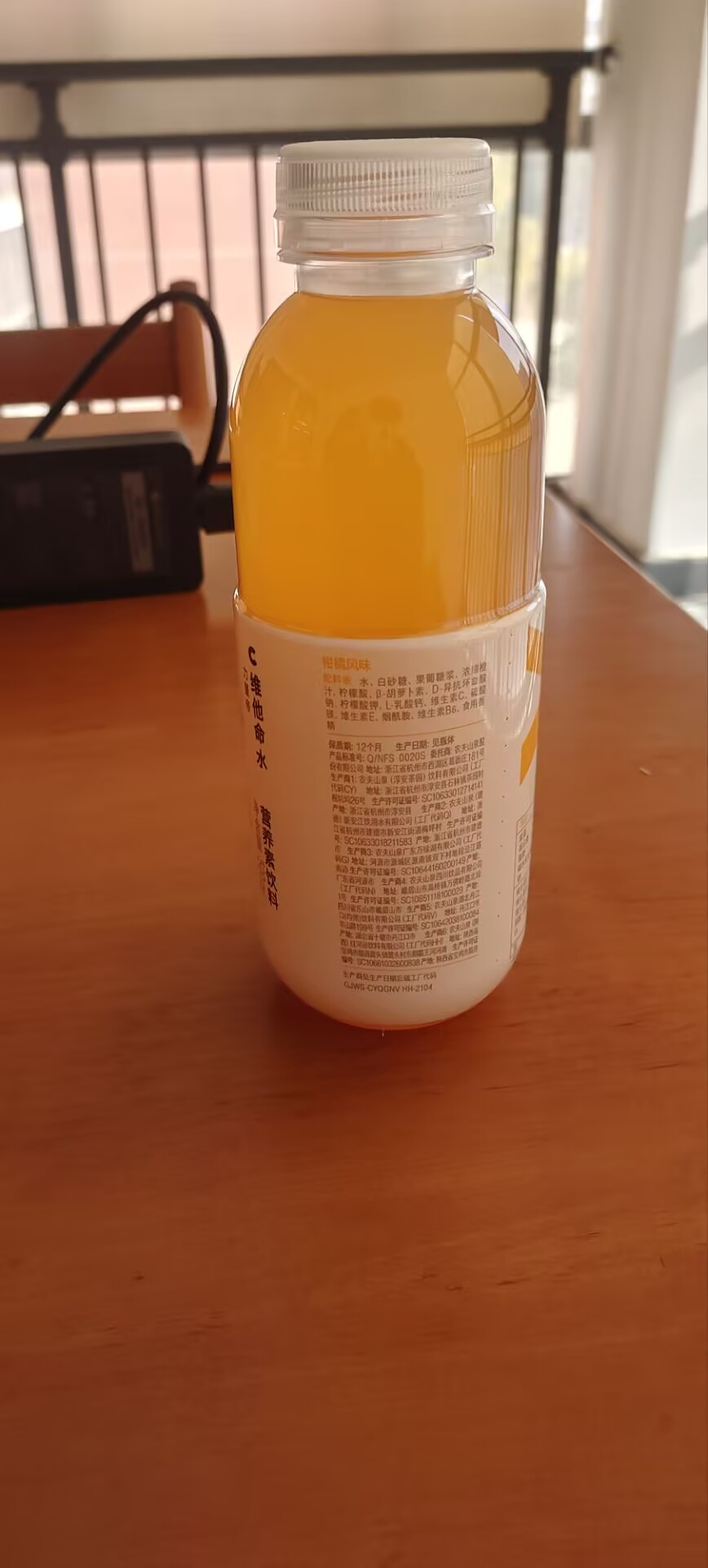redbull: (254, 133, 541, 1017)
